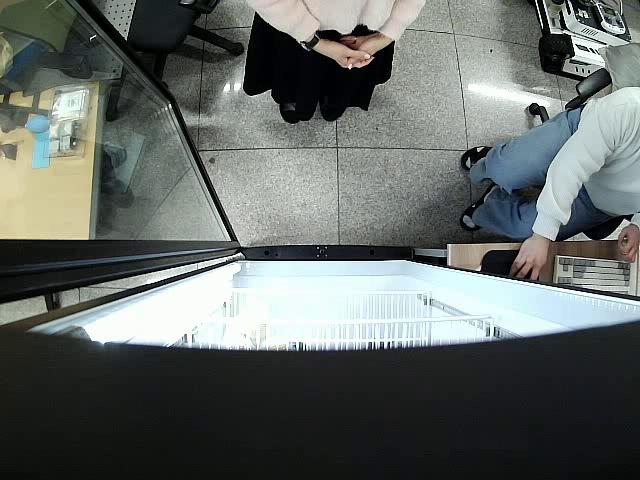00_hand: (512, 239, 549, 283)
